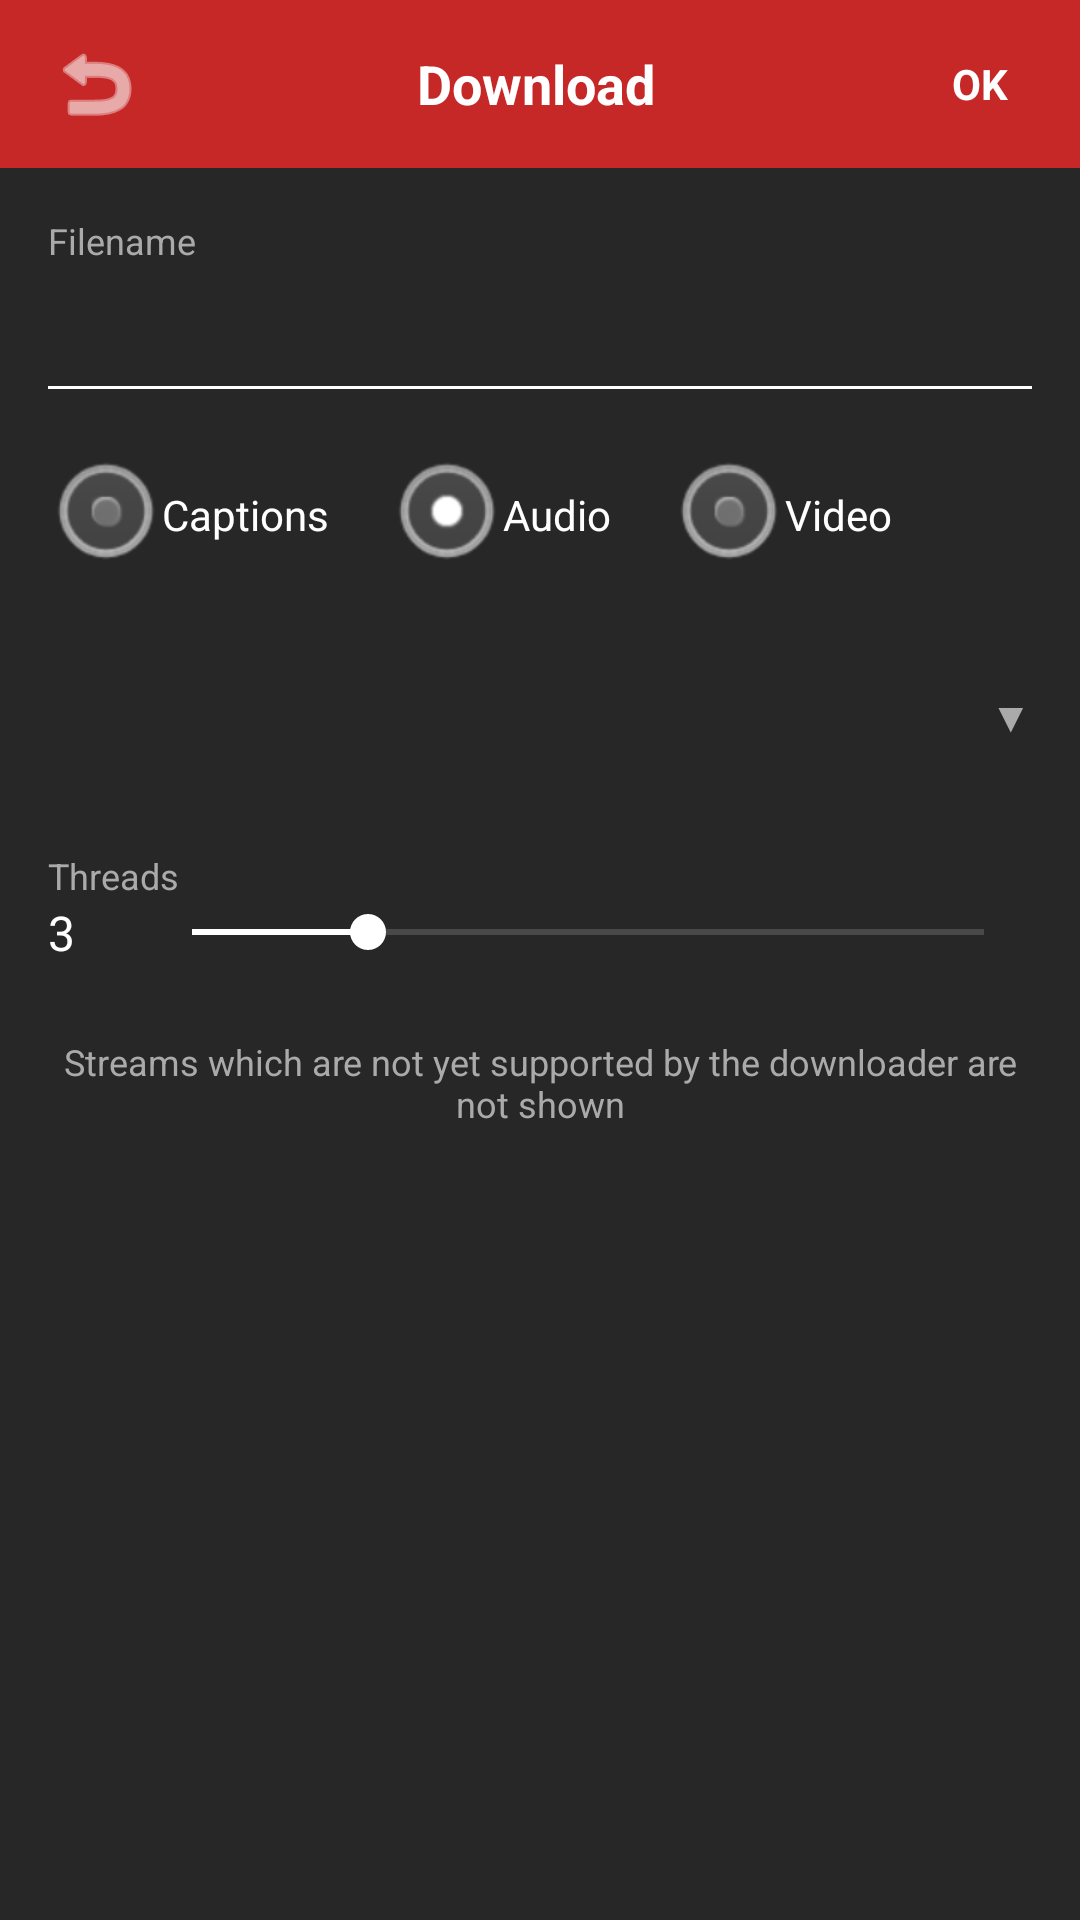

Locate icon controls on the screen. Image size 1080px x 1920px, boxes as (x1, y1, x2, y2).
revert: (63, 53, 132, 116)
